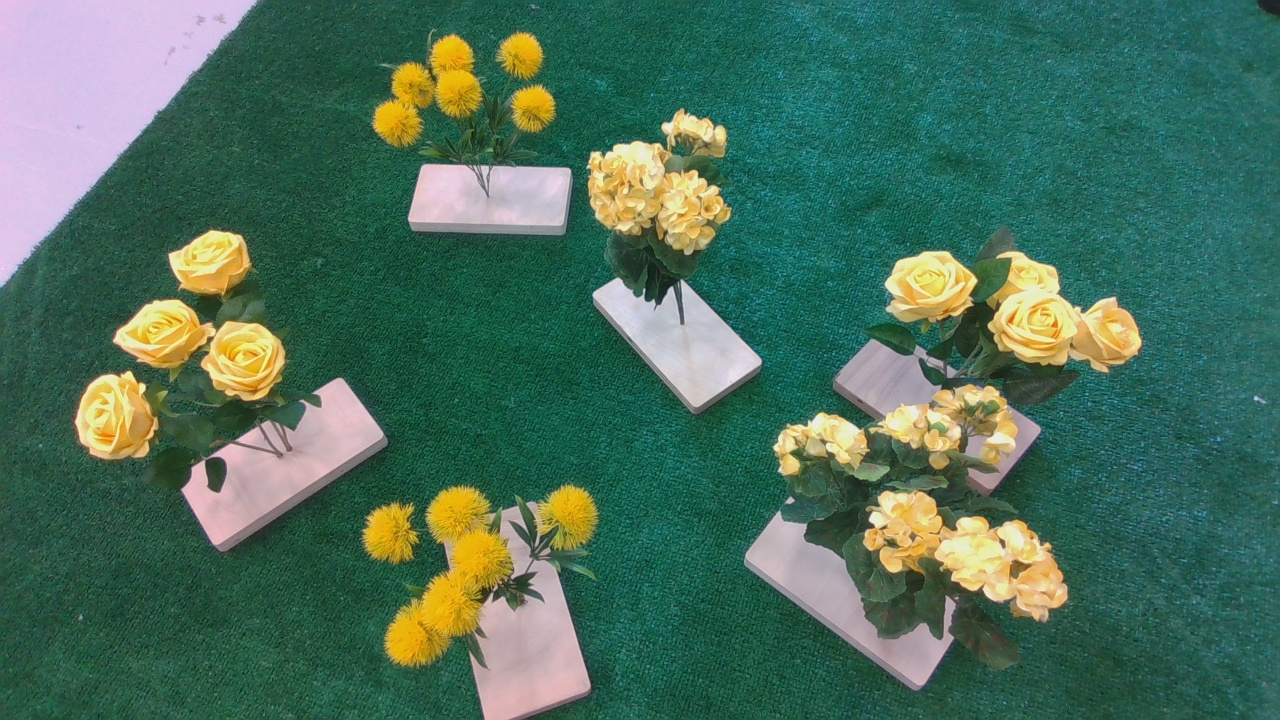dandelion: (339, 481, 611, 696), (343, 25, 571, 160)
geranium: (745, 387, 1097, 650), (588, 111, 750, 305)
rose: (76, 227, 306, 482), (866, 218, 1150, 380)
